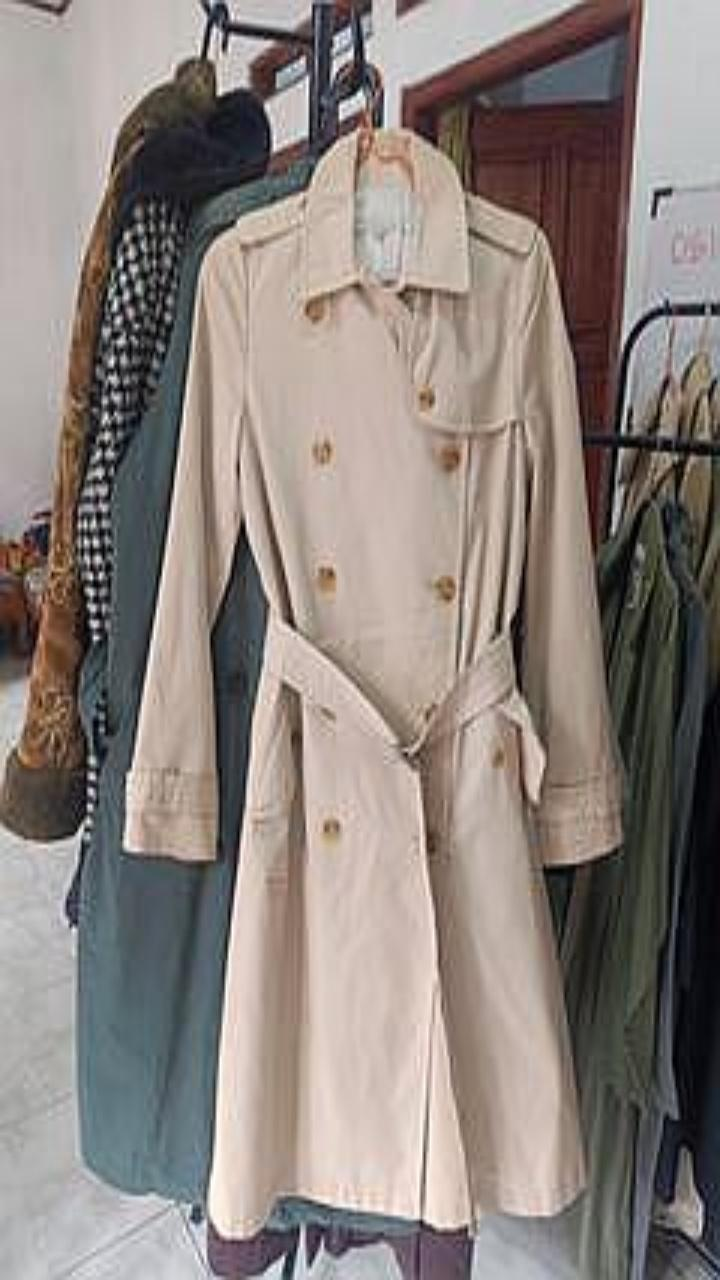Coat: (125, 133, 620, 1236), (0, 59, 215, 841)
